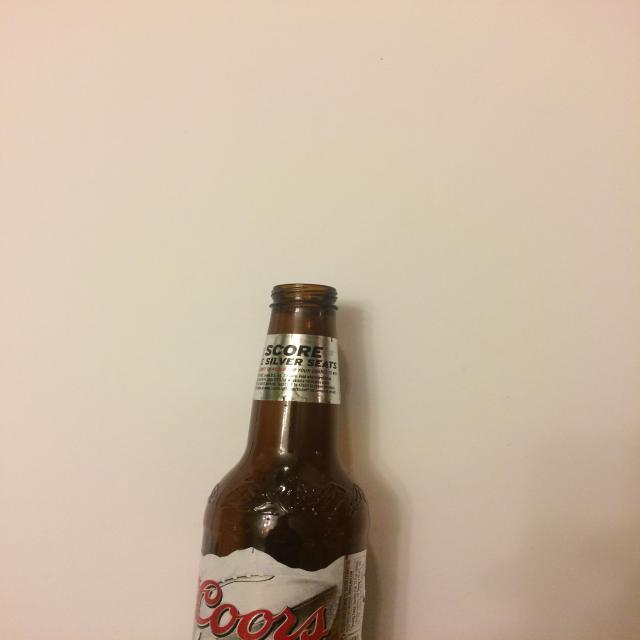glass: (186, 283, 372, 640)
